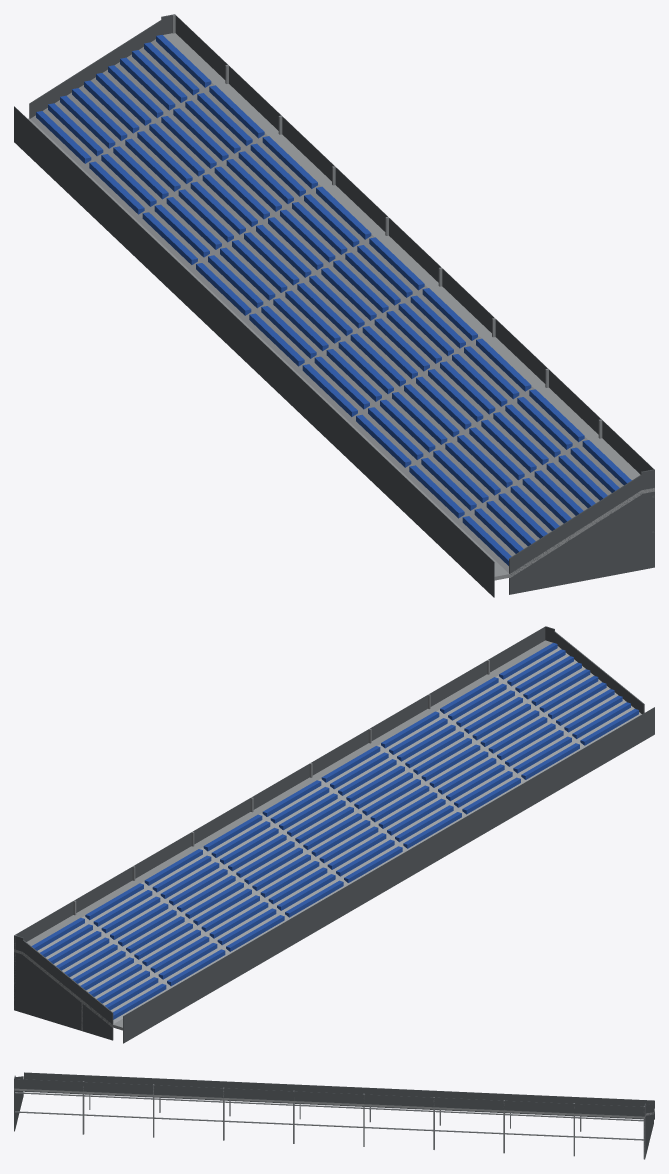
Rendered from mza_stand_garden.glb.
3 views of the same model, one above another, from view 1: azimuth 30°, elevation 25°; view 2: azimuth 150°, elevation 25°; view 3: azimuth 270°, elevation 25° (orthographic). The views are drawn at different scales.
Visible parts, largest first — view 1: monza-garden; view 2: monza-garden; view 3: monza-garden.
Part boxes in pixels (x1=…): monza-garden: x1=14, y1=14, x2=654, y2=597; monza-garden: x1=14, y1=626, x2=654, y2=1043; monza-garden: x1=14, y1=1072, x2=654, y2=1159.
Size of the model in its own units: 18.19 by 6.56 by 72.62.
